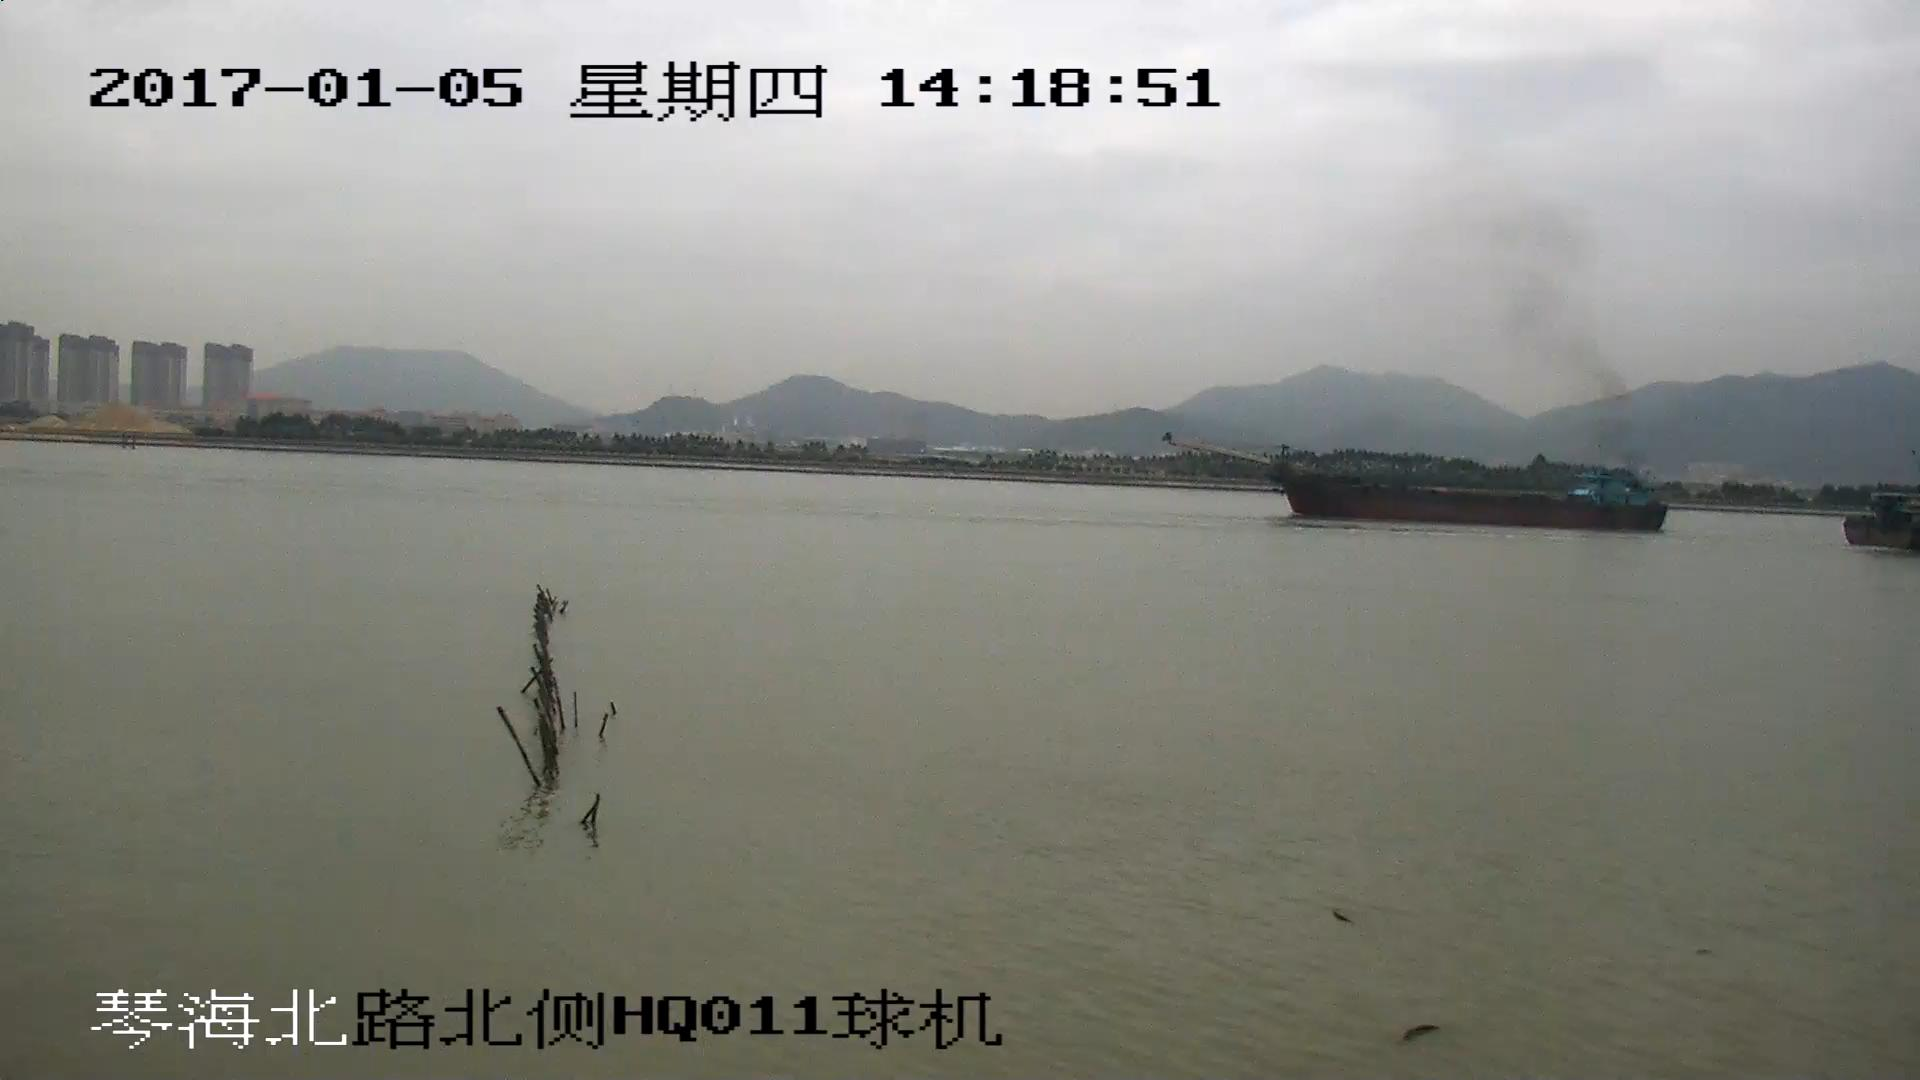bulk cargo carrier: (1165, 439, 1665, 530)
